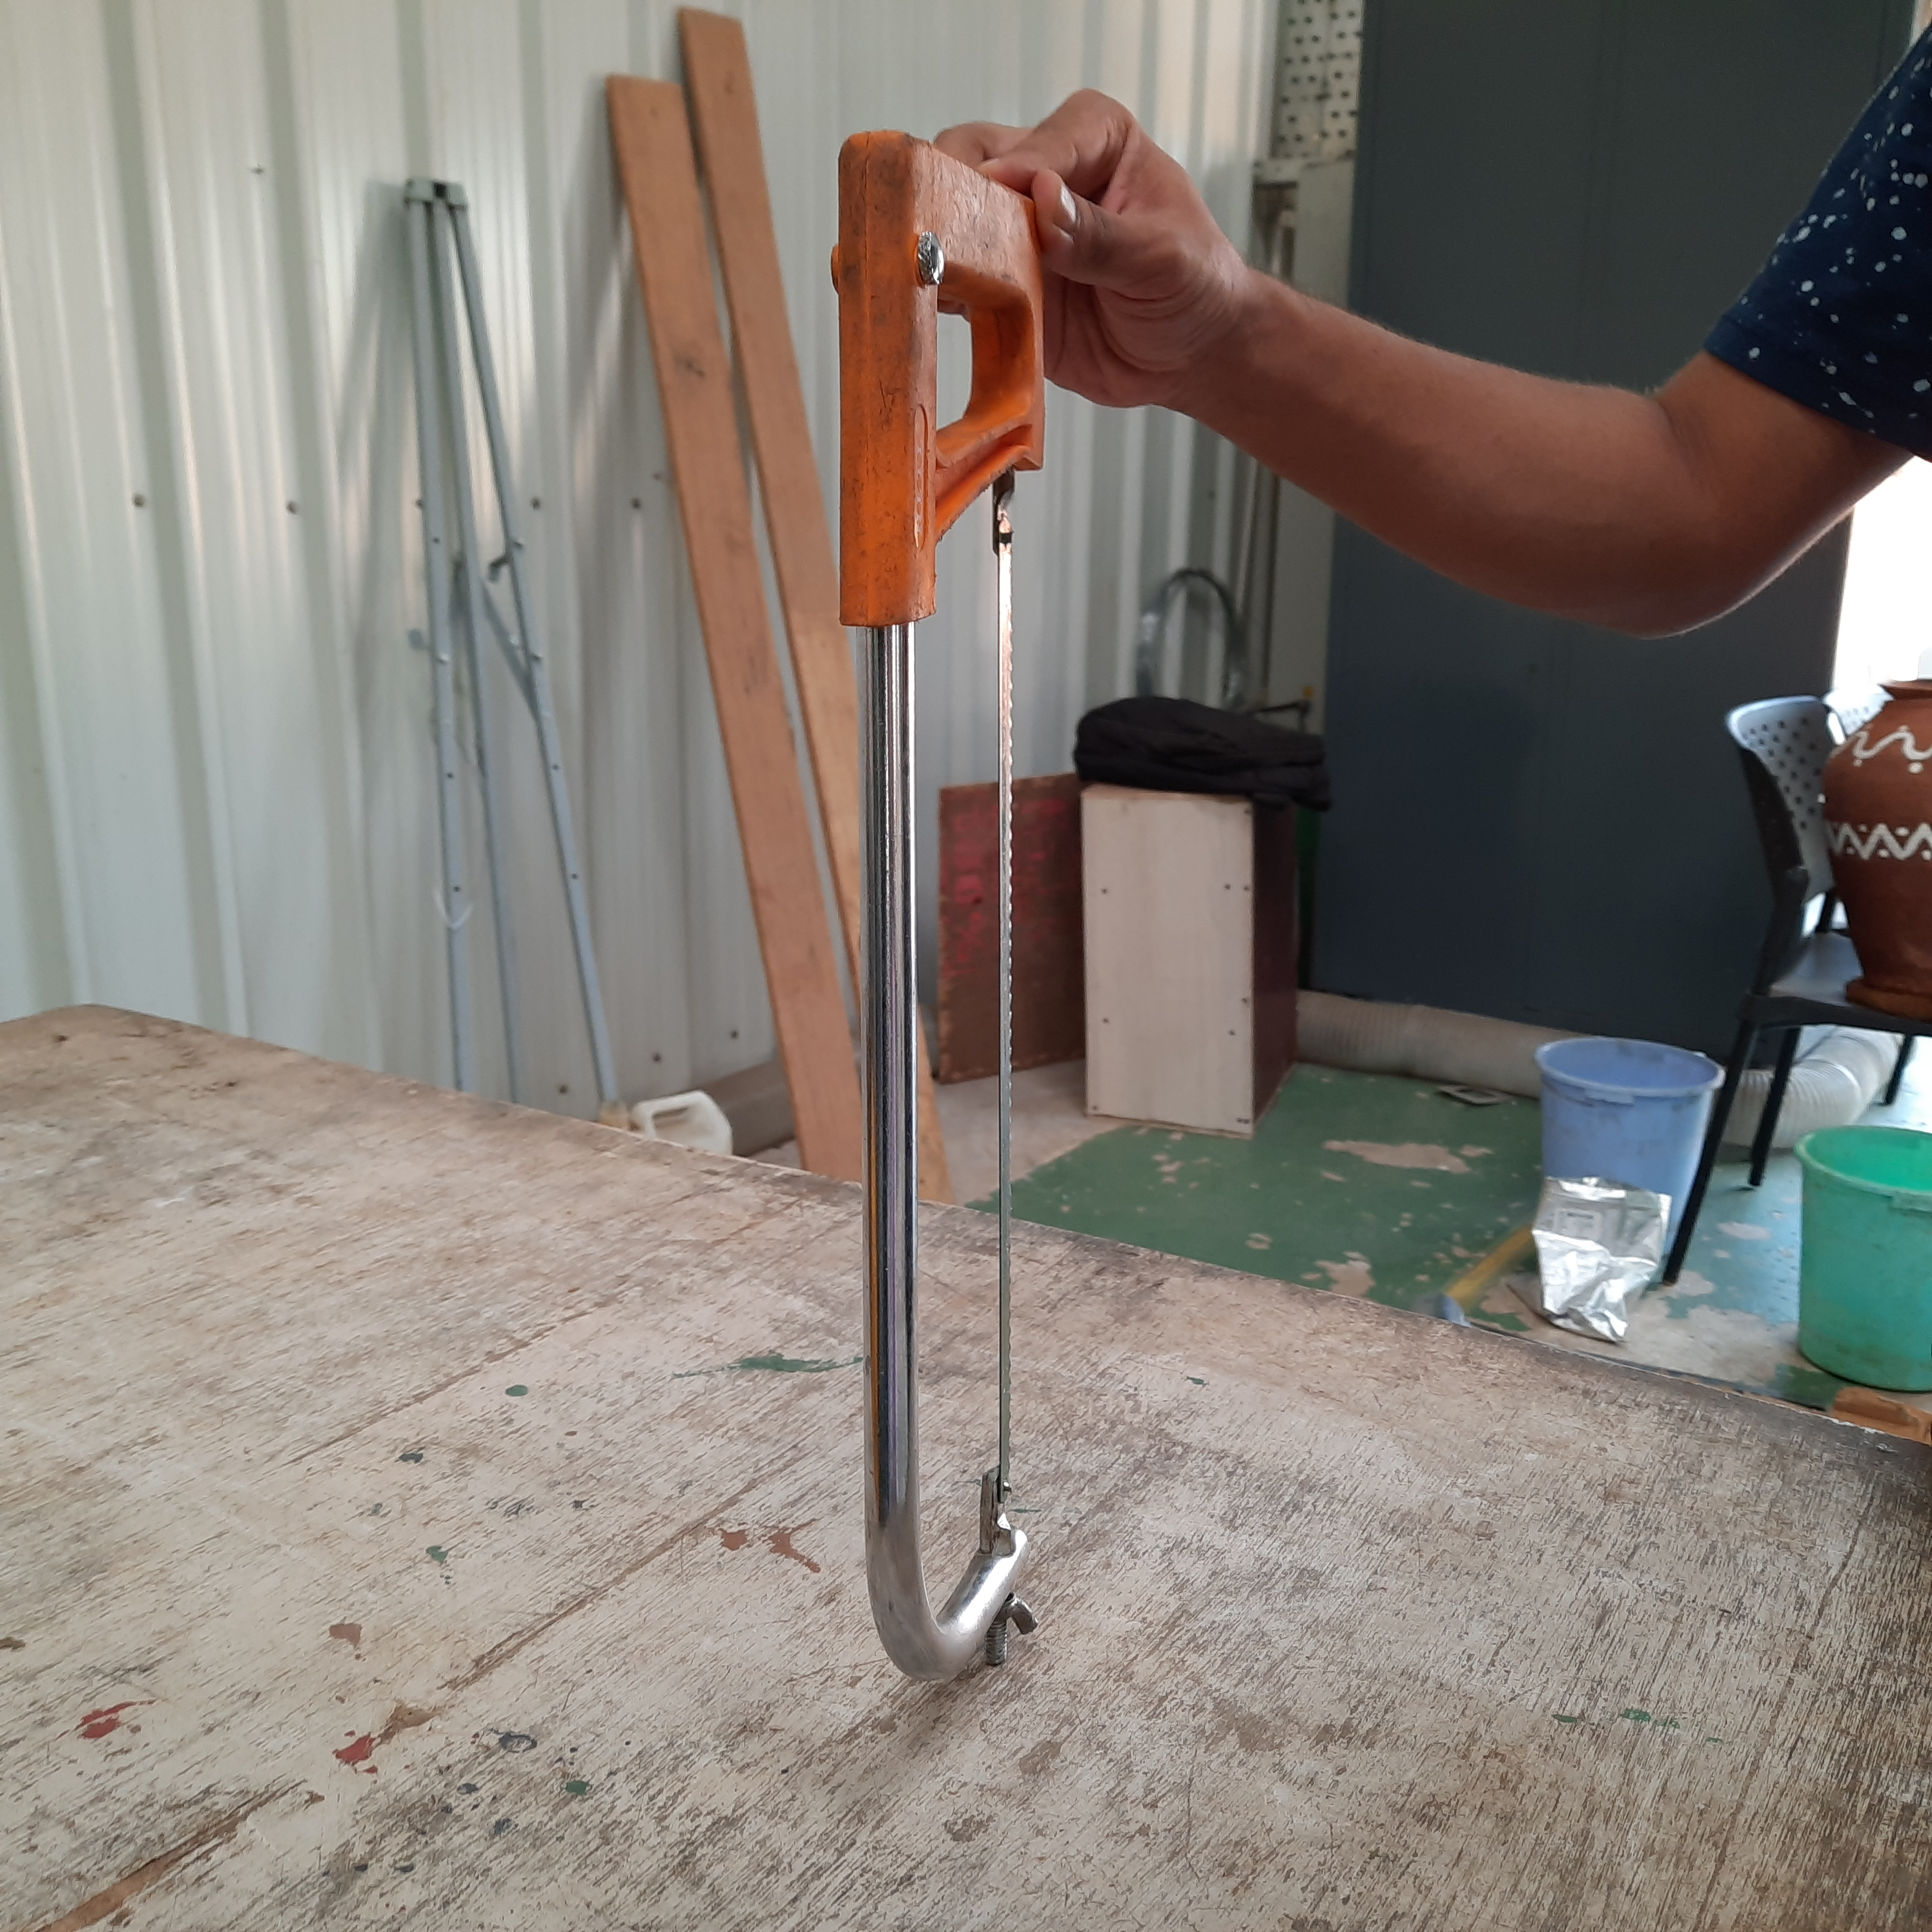Hexaframe: (817, 129, 1067, 1736)
